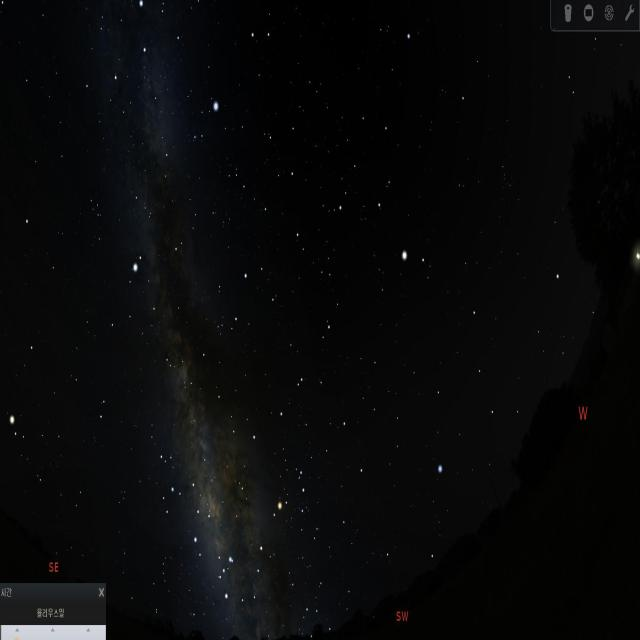aquila: (99, 234, 194, 376)
bootes: (349, 104, 437, 294)
cygnus: (108, 0, 181, 164)
lyra: (192, 104, 224, 149)
sagittarius: (140, 450, 219, 559)
scorpius: (214, 457, 317, 600)
